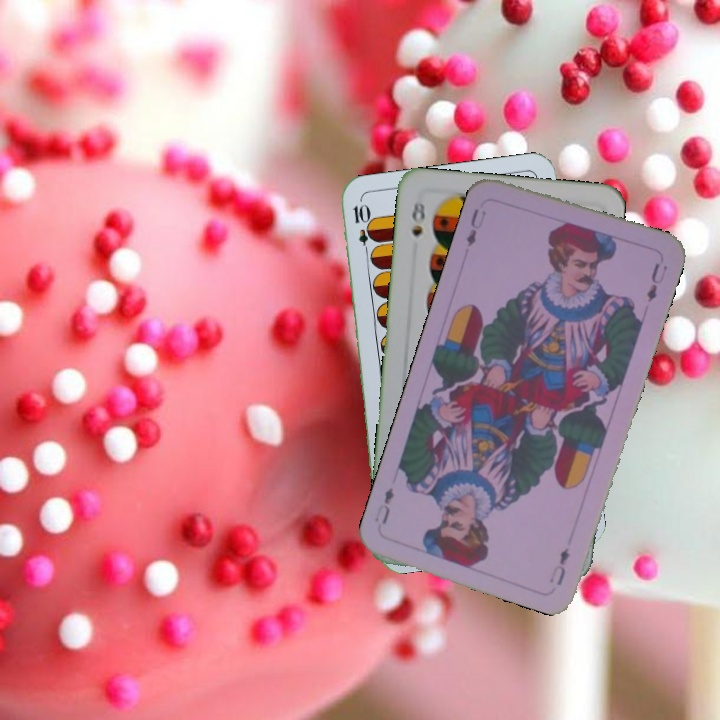E10: (349, 200, 374, 259)
EU: (462, 204, 489, 249), (545, 543, 572, 588)
S8: (407, 195, 428, 239)
